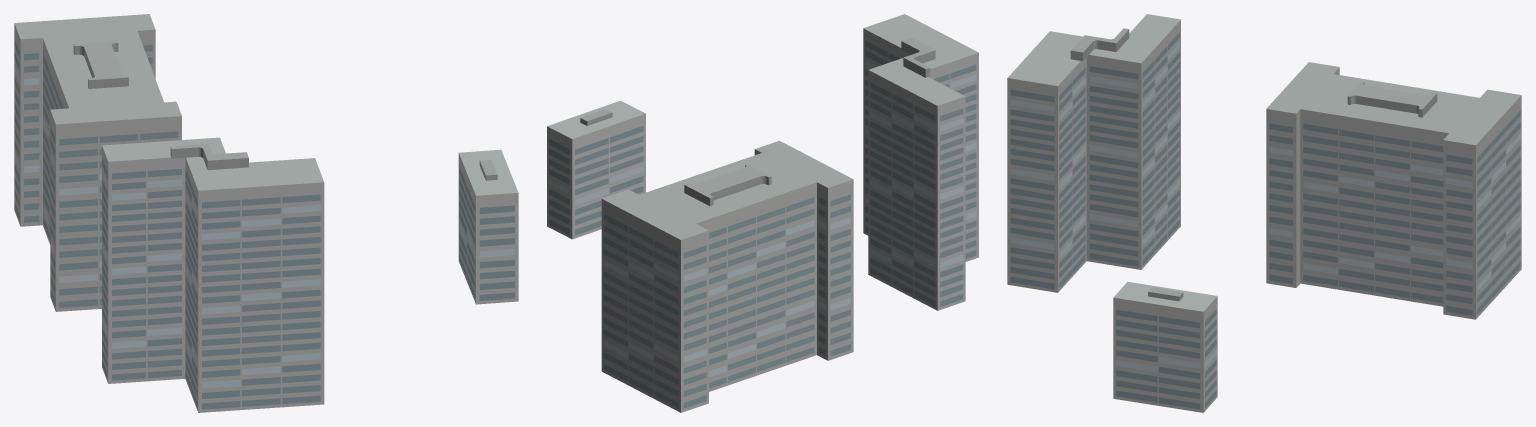
The model's file is apt-a13484004.glb.
The picture shows the model from 3 angles, left to right: view 1: azimuth 30°, elevation 25°; view 2: azimuth 150°, elevation 25°; view 3: azimuth 270°, elevation 25°; orthographic projection. The views are drawn at different scales.
Visible parts, largest first — view 1: apt-a13484004; view 2: apt-a13484004; view 3: apt-a13484004.
Part boxes in pixels (box(x1,y1,x2,y2)): apt-a13484004: box(14, 14, 518, 412); apt-a13484004: box(547, 14, 978, 412); apt-a13484004: box(1007, 14, 1521, 412).
Bounding box in the file's own units: 113 × 59 × 128.
